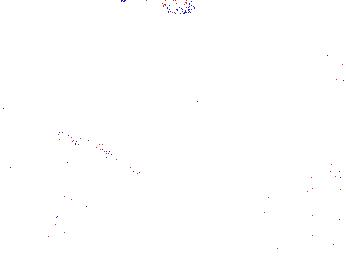glassfish: (52, 128, 155, 192)
red belly glassfish: (323, 49, 340, 65)
redtail glassfish: (139, 1, 202, 15)
